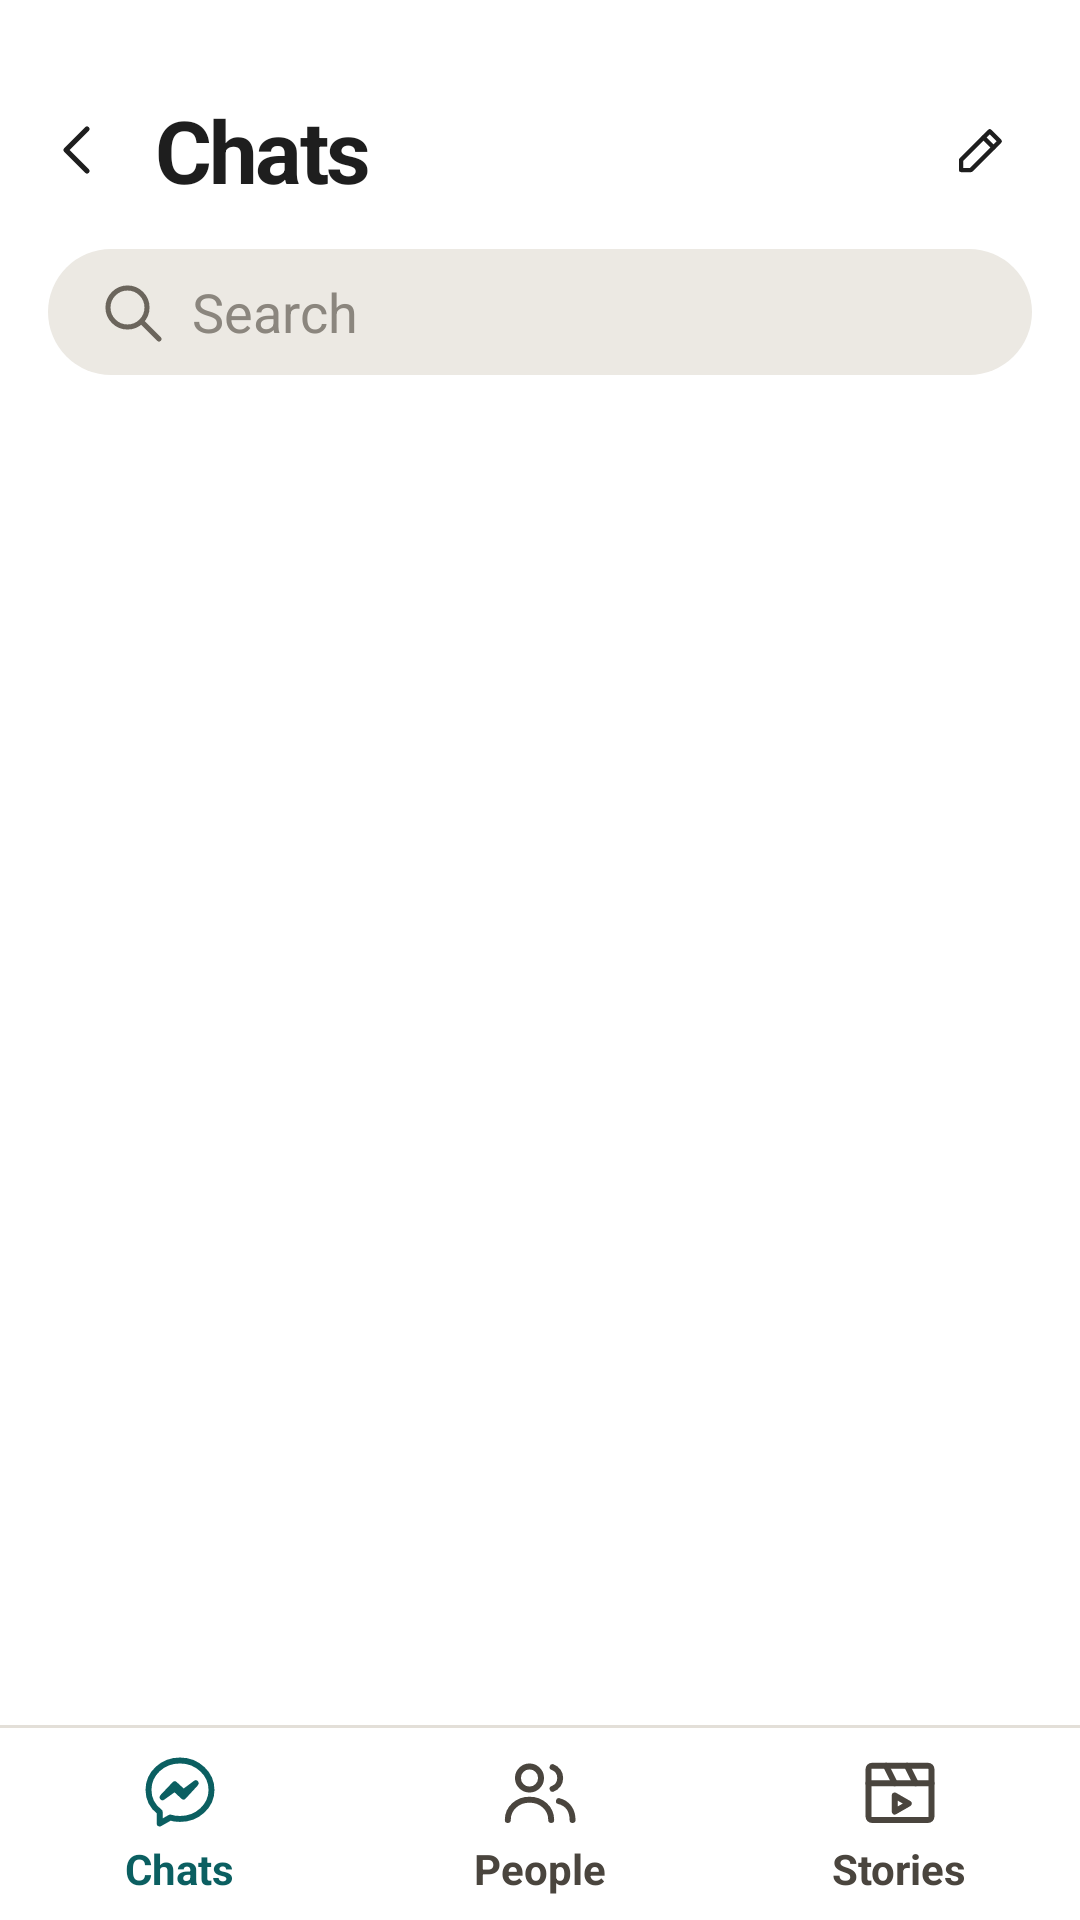

Named icons in this screenshot (1080×1920) and their centers, point (x, y):
ol back: point (76, 150)
ol pencil: point (980, 151)
